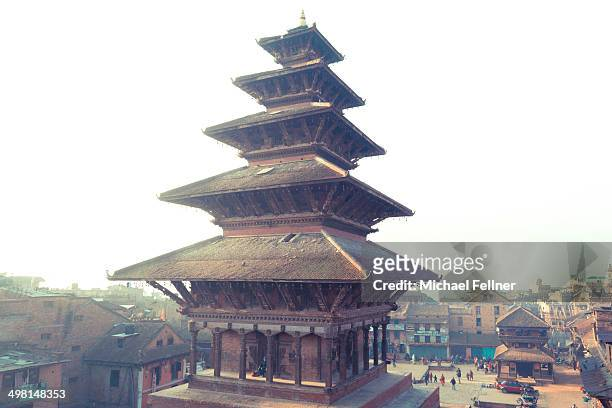nyathapola: (184, 7, 375, 407)
